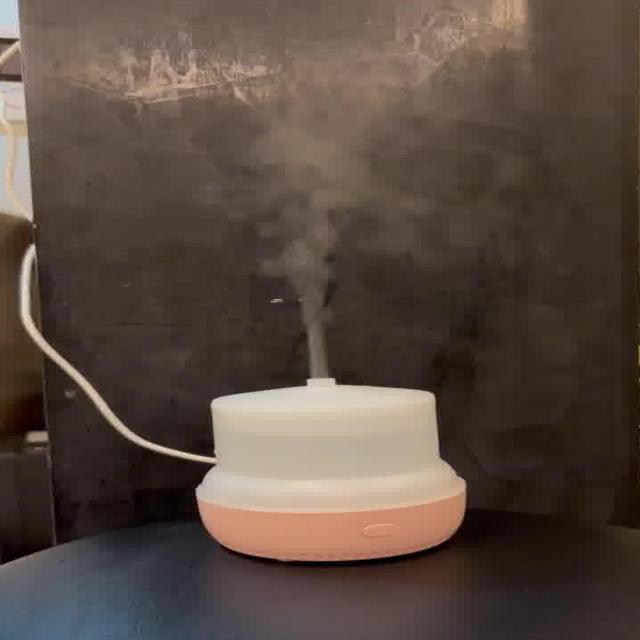fire: (195, 124, 386, 375)
